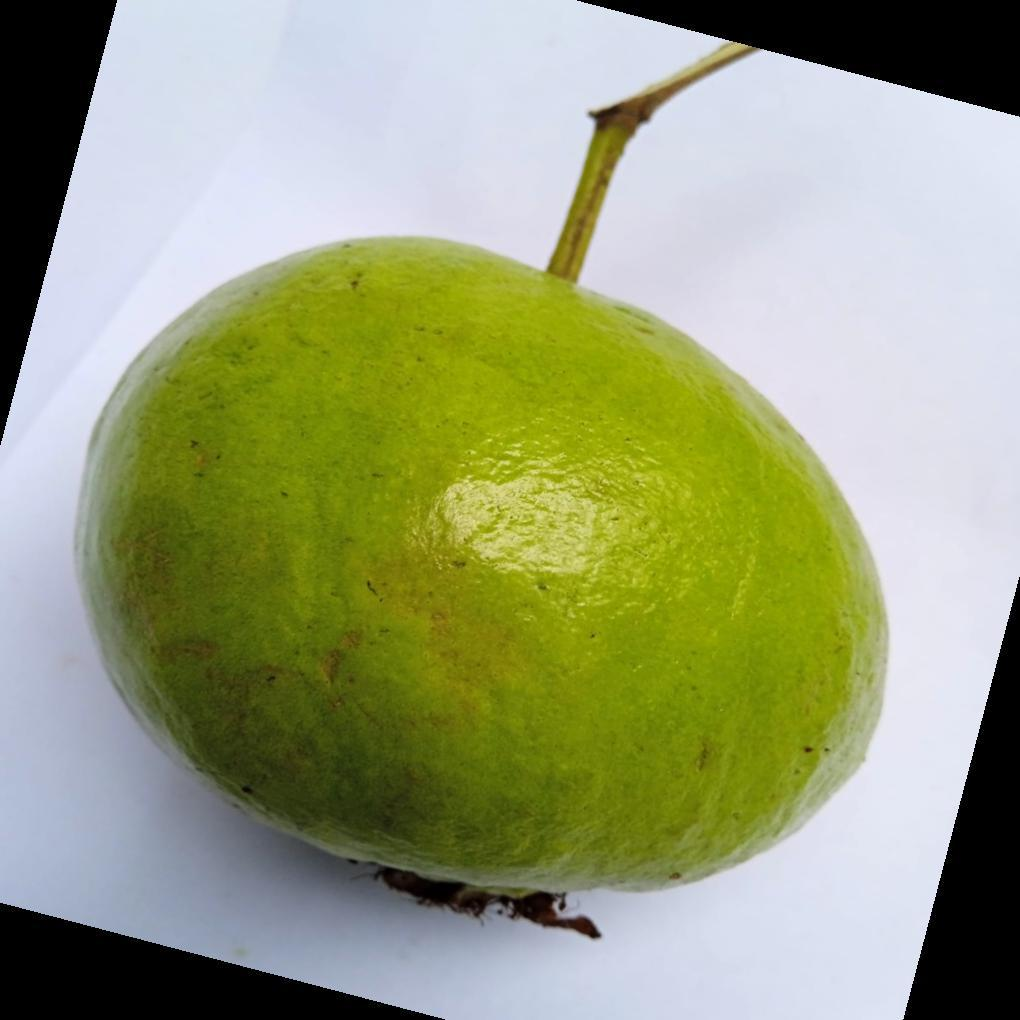FreshGuava: (70, 237, 892, 926)
